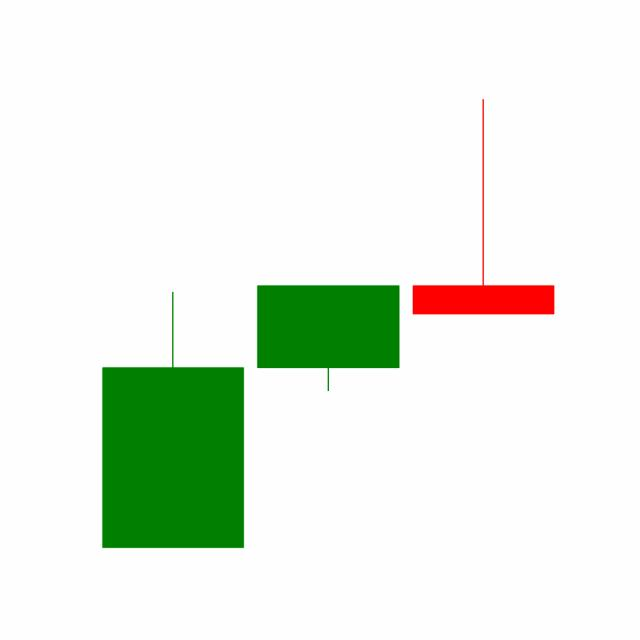Gravestone Doji: (405, 96, 561, 316)
